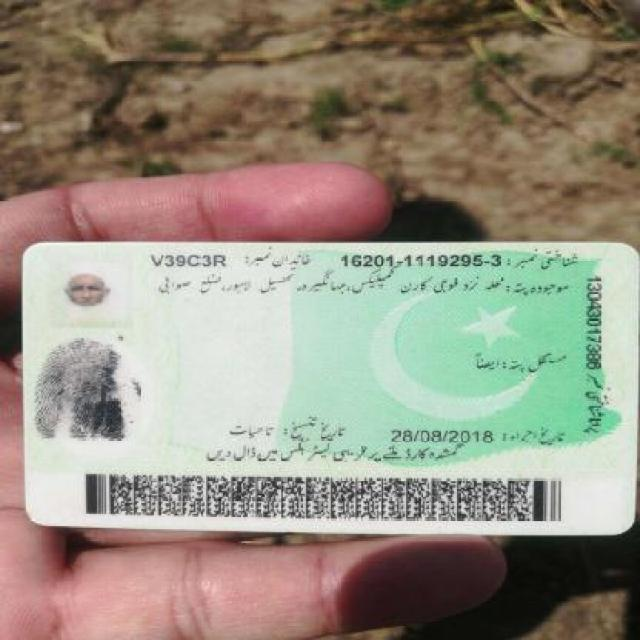Back: (12, 237, 632, 541)
